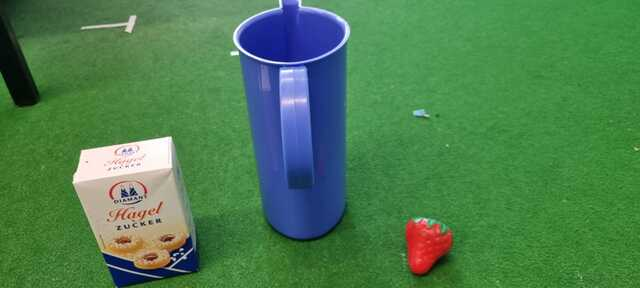004_sugar_box: (73, 136, 205, 285)
012_strawberry: (404, 217, 456, 276)
019_pitcher_base: (232, 1, 357, 240)
